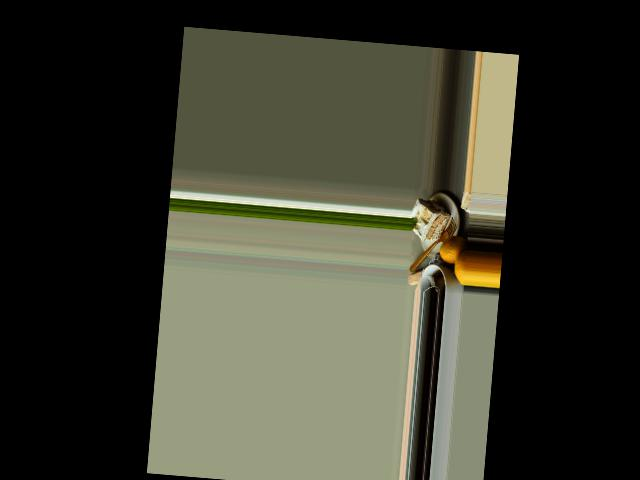lemon: (452, 248, 467, 286)
